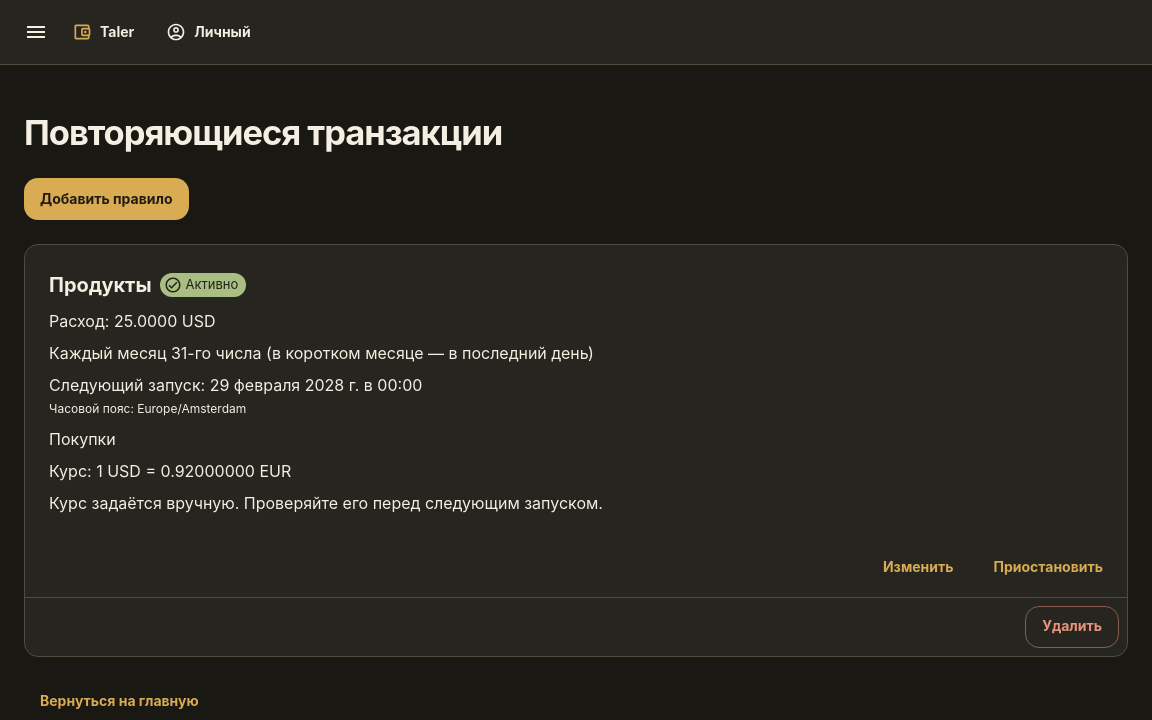
RecurringTransactionsPage › deletes a rule only after confirmation
Click the button with aria-label "Удалить правило Продукты".
click(1072, 627)  # box left=1025, top=606, right=1119, bottom=648
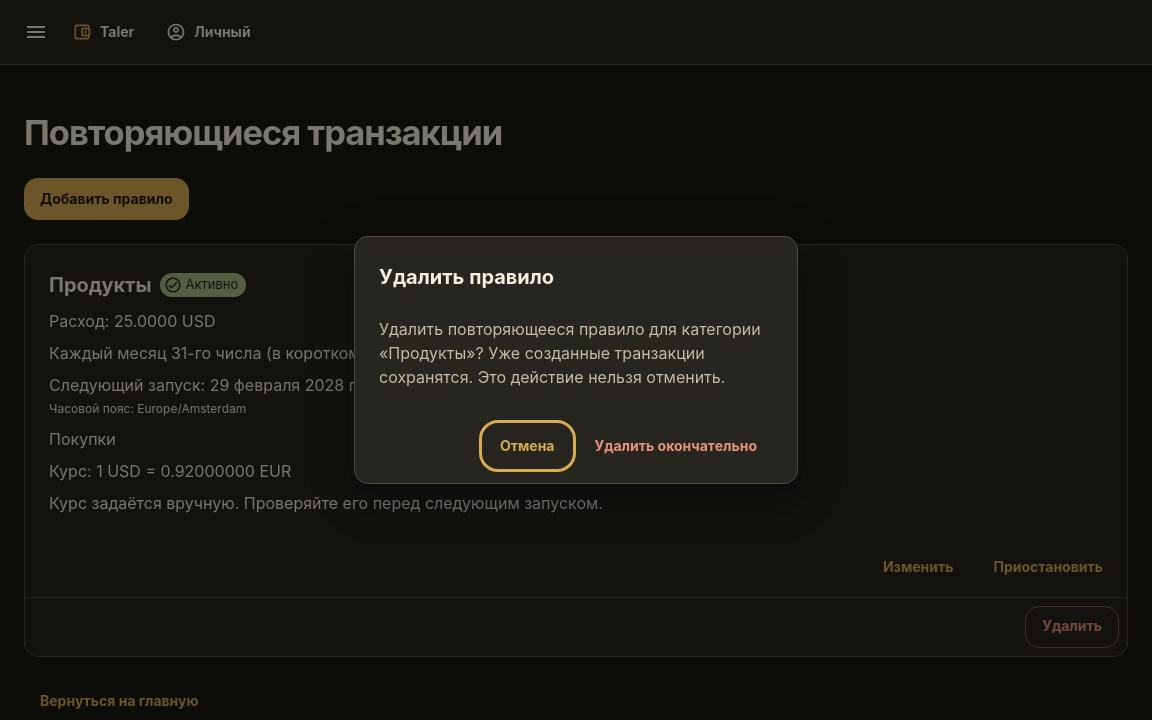
Expected: the dialog "Удалить правило" is shown, left=354, top=236, right=798, bottom=484
Click the button "Отмена".
click(527, 446)  # box left=484, top=425, right=570, bottom=467
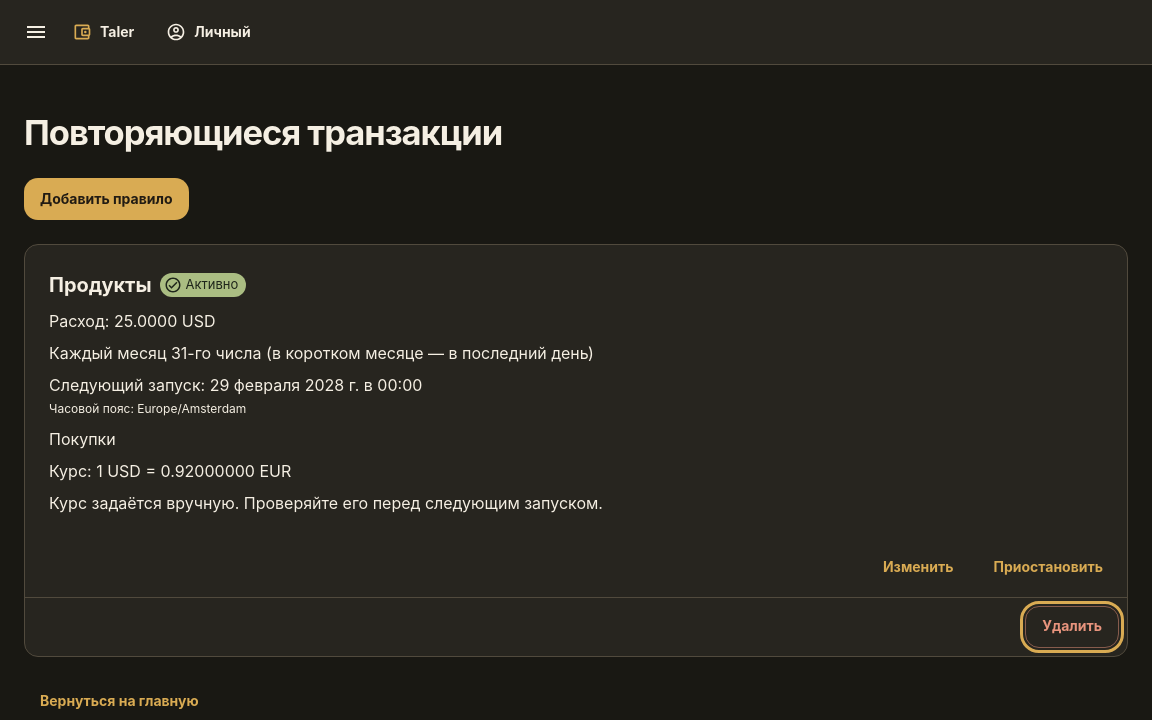
Click the button with aria-label "Удалить правило Продукты".
click(1072, 627)  # box left=1025, top=606, right=1119, bottom=648
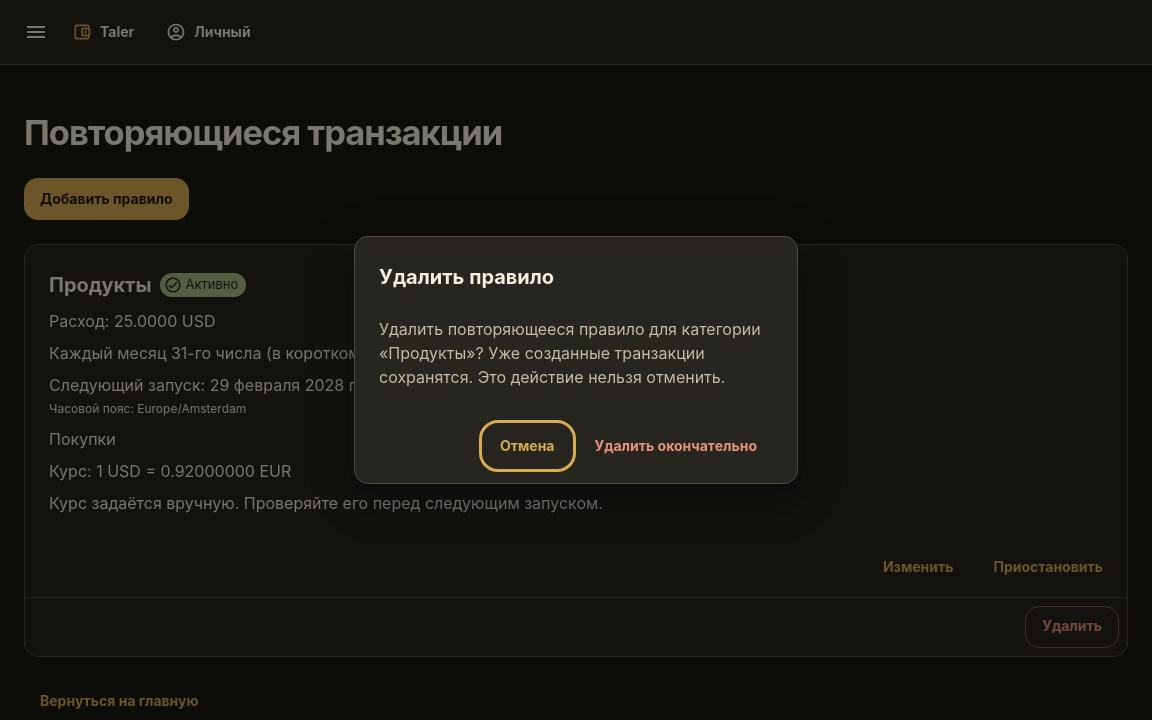
Click the button "Удалить окончательно".
click(676, 446)  # box left=578, top=425, right=773, bottom=467
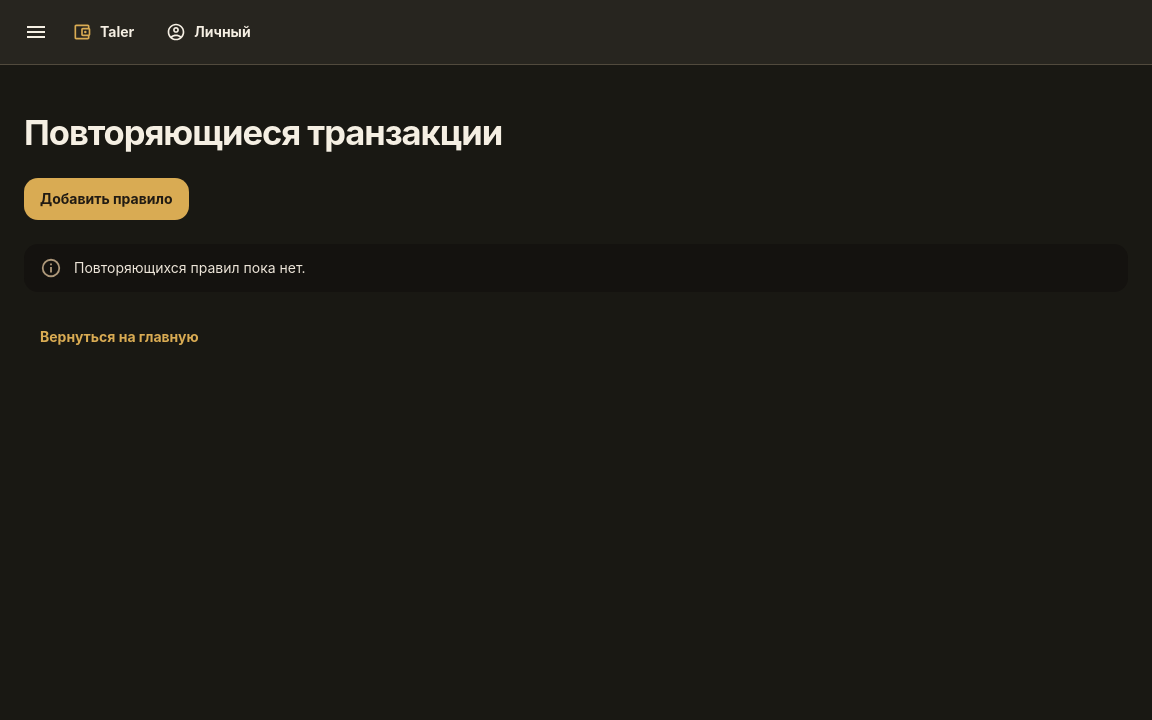
Expected: the text "Повторяющихся правил пока нет." is shown, left=74, top=259, right=306, bottom=276
